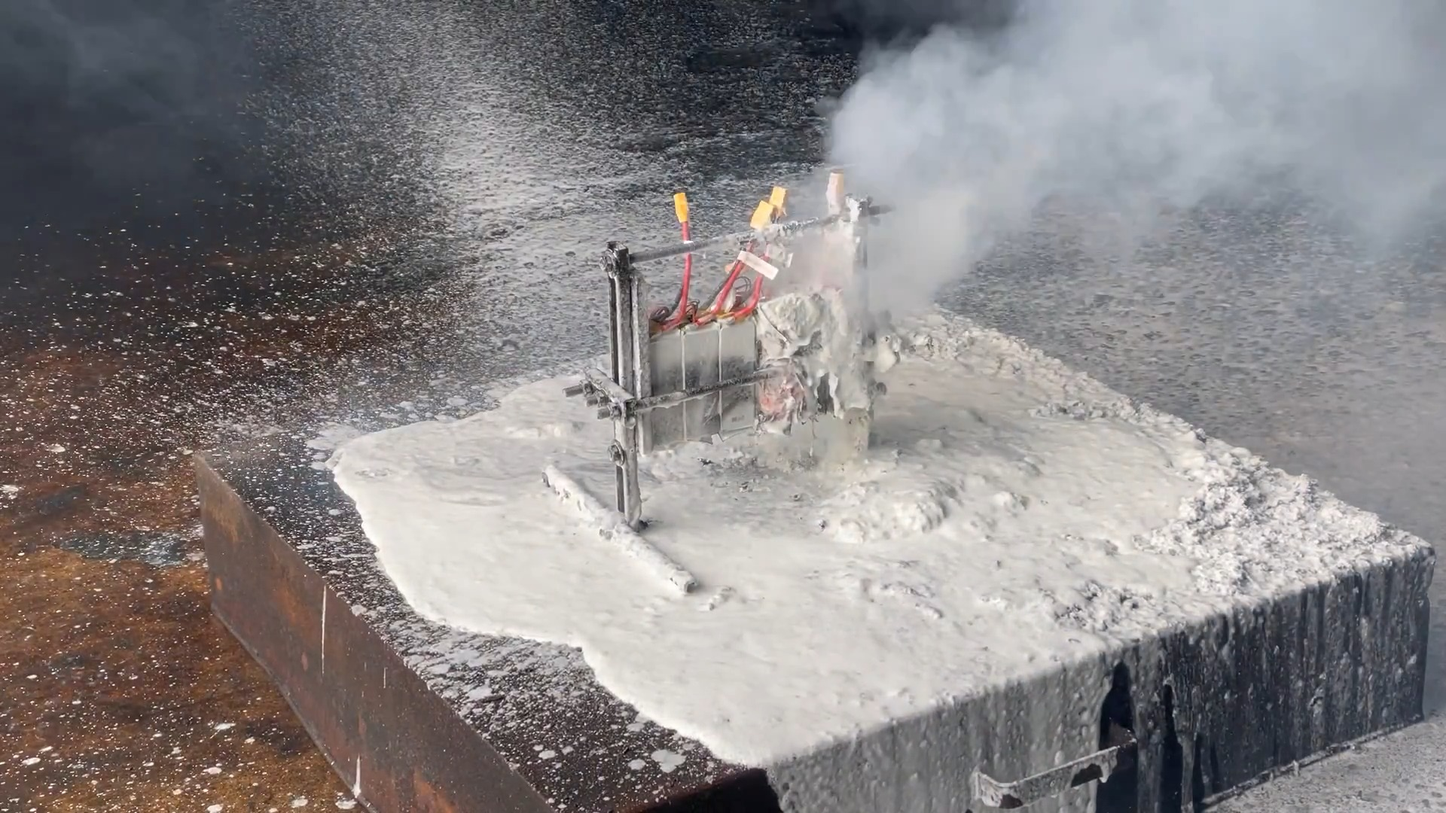smoke: (810, 0, 1446, 326)
